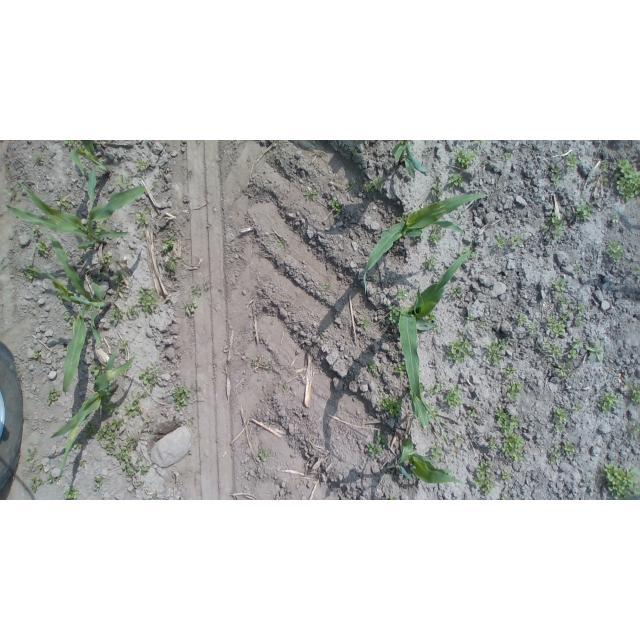Maize: (26, 234, 110, 398), (399, 250, 474, 429), (362, 193, 490, 296), (50, 340, 137, 482), (4, 182, 148, 250), (396, 431, 465, 486), (391, 141, 429, 181), (72, 141, 115, 174)
Weeds: (368, 363, 401, 419), (603, 461, 640, 499), (117, 436, 148, 481), (614, 159, 640, 200), (96, 418, 121, 454), (161, 231, 182, 272), (473, 459, 496, 494), (543, 213, 570, 242), (443, 336, 472, 363), (492, 407, 521, 433), (502, 433, 527, 463), (139, 287, 157, 316), (484, 340, 505, 364), (362, 175, 387, 195), (551, 409, 569, 436), (574, 202, 597, 223), (138, 368, 159, 391), (172, 388, 193, 411), (570, 303, 590, 326), (587, 339, 605, 363), (366, 436, 387, 456), (539, 342, 564, 358), (444, 387, 462, 408), (504, 381, 522, 402), (567, 340, 585, 361), (425, 444, 443, 464), (124, 397, 142, 417), (598, 395, 618, 413), (605, 243, 622, 263), (554, 291, 570, 312), (546, 318, 565, 334), (555, 442, 573, 458), (456, 150, 476, 164), (555, 364, 572, 380), (389, 305, 404, 323), (136, 208, 149, 226), (111, 306, 122, 327), (628, 387, 640, 406), (30, 478, 44, 494), (46, 388, 60, 404), (135, 157, 151, 171), (431, 182, 445, 198), (515, 313, 529, 329), (547, 449, 561, 465), (430, 226, 442, 244), (446, 174, 462, 187), (552, 280, 568, 293), (187, 299, 198, 317), (509, 235, 523, 249), (90, 364, 104, 378), (305, 189, 320, 202), (25, 264, 36, 281), (527, 326, 541, 339), (36, 239, 48, 254), (331, 197, 342, 213), (26, 447, 37, 463), (428, 385, 444, 396), (552, 172, 565, 185), (566, 156, 579, 168), (421, 259, 435, 270), (117, 175, 131, 186), (55, 199, 71, 208), (466, 409, 479, 420), (64, 489, 78, 499), (630, 424, 640, 437), (492, 240, 506, 249), (103, 255, 114, 266), (127, 304, 134, 321), (72, 441, 85, 450), (93, 477, 102, 490), (572, 402, 583, 412), (66, 315, 75, 327), (33, 349, 42, 360), (398, 291, 409, 300), (453, 289, 464, 298), (257, 450, 265, 462), (280, 238, 287, 251), (87, 422, 94, 435), (501, 473, 511, 481), (503, 154, 512, 161), (489, 443, 495, 449), (63, 141, 69, 146)
